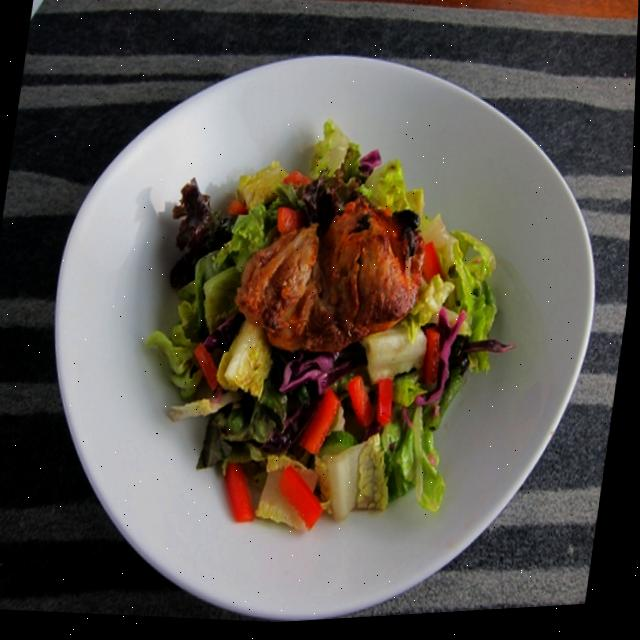鸡肉料理 含炸鸡: (33, 10, 639, 638)
